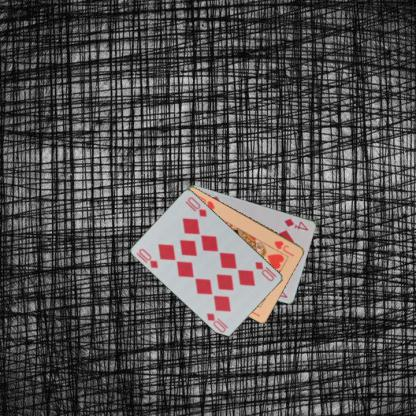10d: (252, 259, 278, 282), (136, 246, 160, 270)
4d: (282, 216, 310, 232)
Jh: (272, 238, 295, 258)
